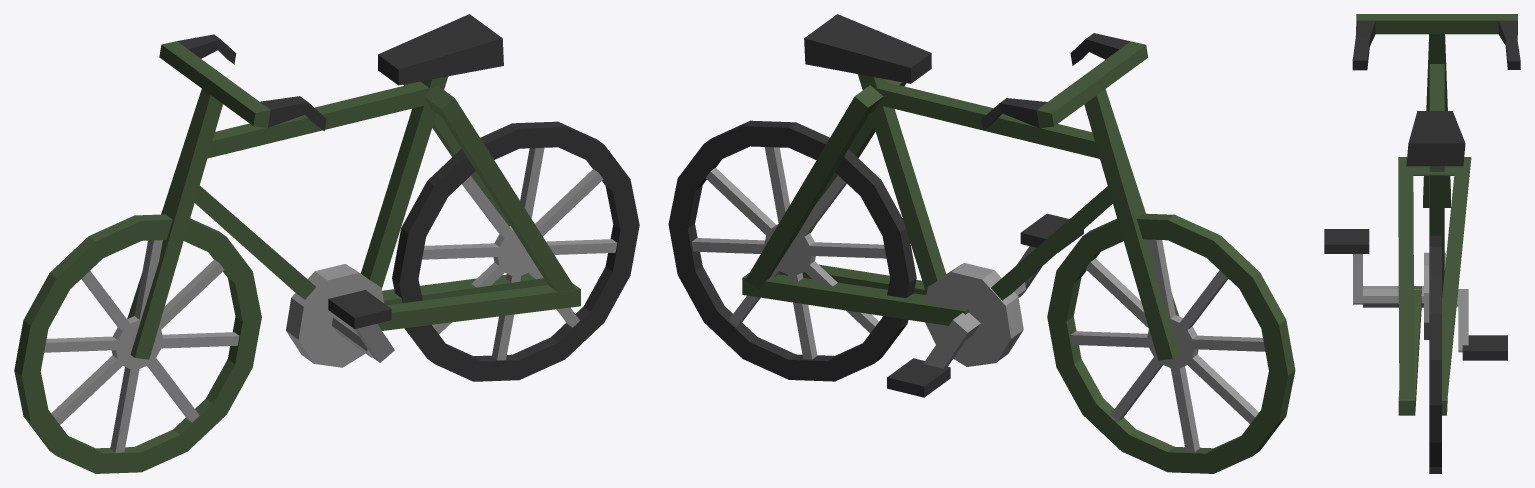
Rendered from B02_velo_4.fbx.
3 views of the same model, side by side, from view 1: azimuth 30°, elevation 25°; view 2: azimuth 150°, elevation 25°; view 3: azimuth 270°, elevation 25° (orthographic). The views are drawn at different scales.
Parts seen in each view (by area): view 1: B02_velo_4; view 2: B02_velo_4; view 3: B02_velo_4.
Part boxes in pixels (<box>): B02_velo_4: <box>14,14,639,473</box>; B02_velo_4: <box>668,14,1295,473</box>; B02_velo_4: <box>1324,14,1520,473</box>.
Size of the model in its own units: 306 by 176 by 97.92.
